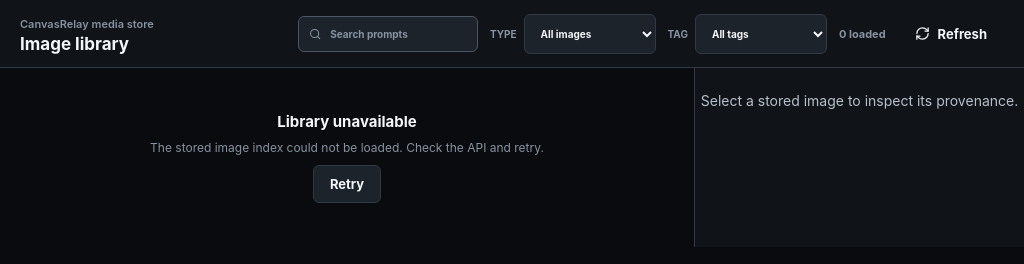
Scenario: LibraryWorkspace › offers a retry when the persistent index is unavailable
What coordinates should you click on to do the following:
click the button "Retry"
I would click on:
 (347, 184)
Its box is [313,165,381,203].
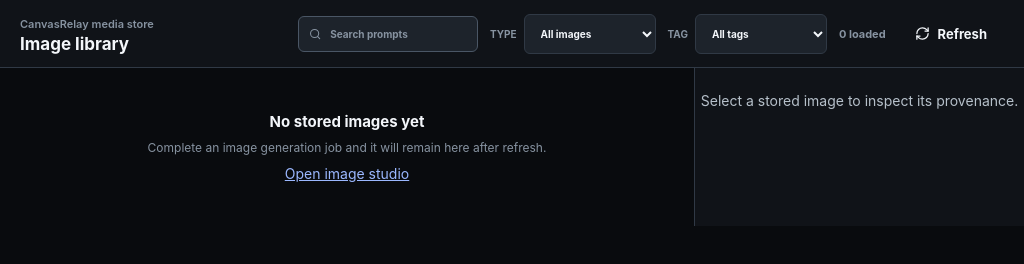
Now the heading "No stored images yet" is shown, box [270,112,424,131]
